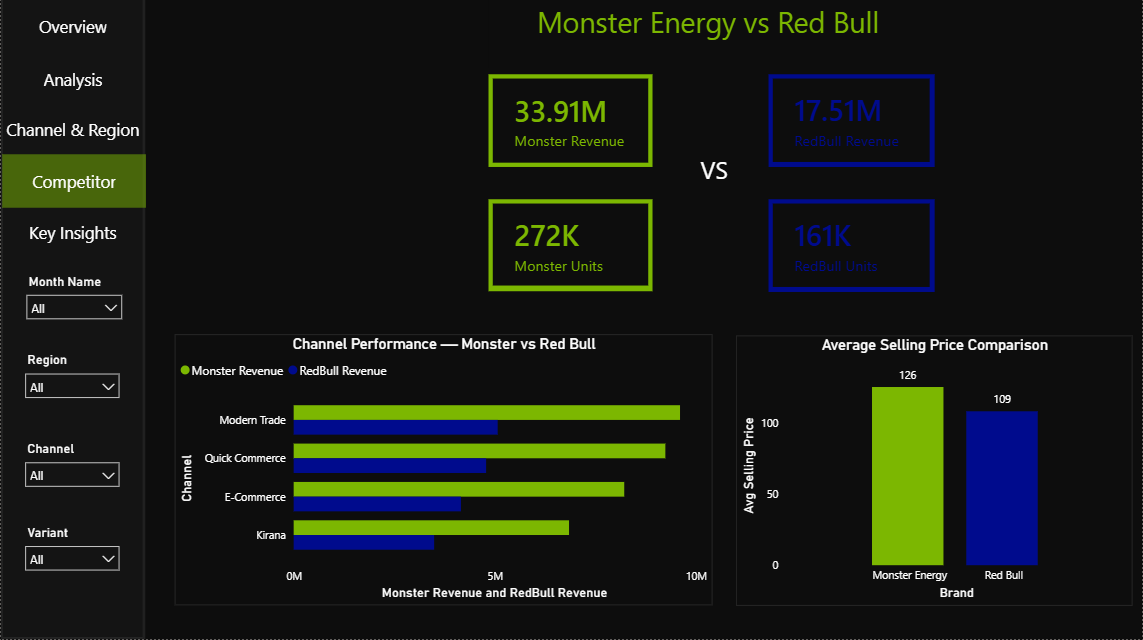

The page's visual inventory and layout, read from the dashboard file:
{"tool":"powerbi","page":{"name":"Competitor Intel ","canvas":[1280,720],"ordinal":3},"visuals":[{"type":"cardVisual","fields":{"Data":["DateTable.Monster Revenue"]},"box":[547.1,85.7,184.3,104.3],"z":0},{"type":"cardVisual","fields":{"Data":["DateTable.Monster Units"]},"box":[547.1,225.7,184.3,102.9],"z":1000},{"type":"cardVisual","fields":{"Data":["DateTable.RedBull Revenue"]},"box":[861,85.5,186.5,103.8],"z":2000},{"type":"cardVisual","fields":{"Data":["DateTable.RedBull Units"]},"box":[861,225.8,186.5,103.8],"z":3000},{"type":"textbox","box":[739,151.4,122,74.3],"z":4000},{"type":"clusteredColumnChart","title":"Average Selling Price Comparison","fields":{"Category":["Monster_Energy_Sales_Data.Brand"],"Y":["DateTable.Avg Selling Price"]},"box":[824.5,378.6,444.5,302.9],"z":5000},{"type":"clusteredBarChart","title":"Channel Performance — Monster vs Red Bull","fields":{"Category":["Monster_Energy_Sales_Data.Channel"],"Y":["DateTable.Monster Revenue","DateTable.RedBull Revenue"]},"box":[194.9,377.2,603,304.3],"z":6000},{"type":"shape","box":[0,0,161.3,719.4],"z":7000},{"type":"actionButton","title":"Overview","box":[0,0,161.3,63.1],"z":8000},{"type":"actionButton","box":[0,63.1,161.3,56.1],"z":9000},{"type":"actionButton","box":[0,119.2,161.3,56.1],"z":10000},{"type":"actionButton","box":[1.4,175.3,161.3,60.3],"z":11000},{"type":"actionButton","box":[0,235.6,161.3,53.3],"z":12000},{"type":"slicer","fields":{"Values":["DateTable.Month Name"]},"box":[18.2,304.3,127.6,74.3],"z":13000},{"type":"slicer","fields":{"Values":["Monster_Energy_Sales_Data.Region"]},"box":[17.5,392.5,126.2,75],"z":14000},{"type":"slicer","fields":{"Values":["Monster_Energy_Sales_Data.Channel"]},"box":[17.5,492.5,126.2,73.8],"z":15000},{"type":"slicer","fields":{"Values":["Monster_Energy_Sales_Data.Variant"]},"box":[17.5,586.2,126.2,73.8],"z":16000},{"type":"textbox","box":[547.1,0,501.4,78.6],"z":17000}]}

Visuals, with their boxes on the page's 1280x720 design canvas (x1, y1, x2, y2). These are canvas units, not pixel positions in the 1143x640 screenshot, which may show the page scaled, cropped or inside an application window:
cardVisual - DateTable.Monster Revenue: box=[547, 86, 731, 190]
cardVisual - DateTable.Monster Units: box=[547, 226, 731, 329]
cardVisual - DateTable.RedBull Revenue: box=[861, 86, 1048, 189]
cardVisual - DateTable.RedBull Units: box=[861, 226, 1048, 330]
textbox: box=[739, 151, 861, 226]
"Average Selling Price Comparison" clusteredColumnChart: box=[824, 379, 1269, 682]
"Channel Performance — Monster vs Red Bull" clusteredBarChart: box=[195, 377, 798, 682]
shape: box=[0, 0, 161, 719]
"Overview" actionButton: box=[0, 0, 161, 63]
actionButton: box=[0, 63, 161, 119]
actionButton: box=[0, 119, 161, 175]
actionButton: box=[1, 175, 163, 236]
actionButton: box=[0, 236, 161, 289]
slicer - DateTable.Month Name: box=[18, 304, 146, 379]
slicer - Monster_Energy_Sales_Data.Region: box=[18, 392, 144, 468]
slicer - Monster_Energy_Sales_Data.Channel: box=[18, 492, 144, 566]
slicer - Monster_Energy_Sales_Data.Variant: box=[18, 586, 144, 660]
textbox: box=[547, 0, 1048, 79]
